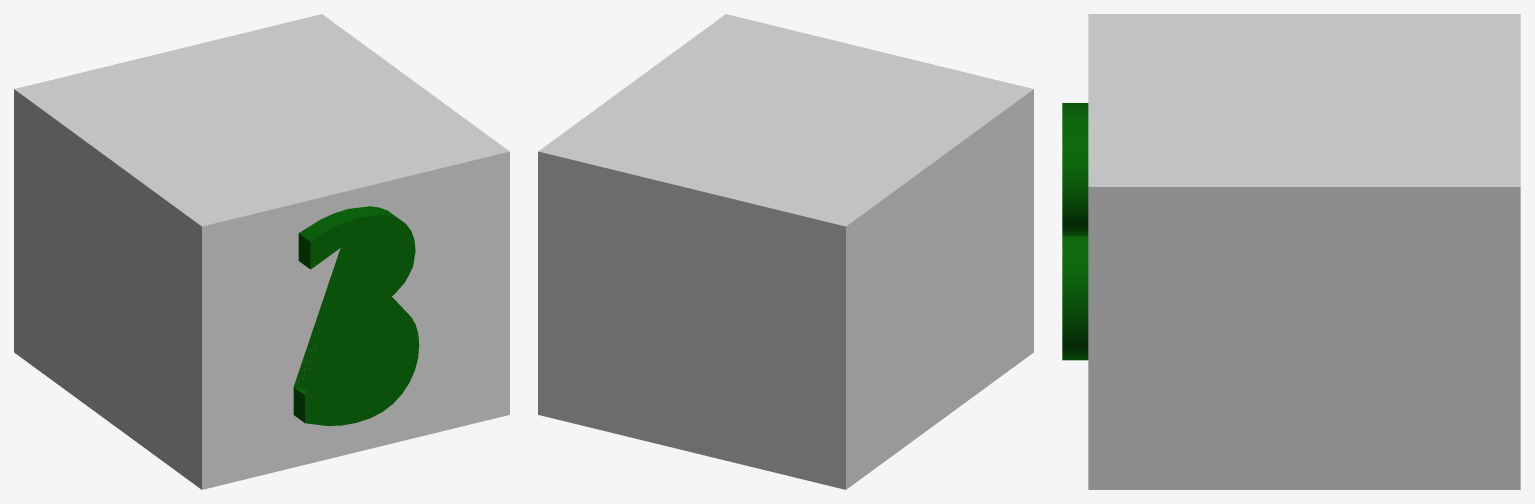
The model's file is SurveyAnswerCube3.fbx.
3 renders of one model, left to right at view 1: azimuth 30°, elevation 25°; view 2: azimuth 150°, elevation 25°; view 3: azimuth 270°, elevation 25°, orthographic. The views are drawn at different scales.
Visible parts, largest first — view 1: Model, G_3_1; view 2: Model; view 3: Model, G_3_1.
Boxes of the visible parts, left/top/right/bottom form: Model: left=14, top=14, right=509, bottom=489; G_3_1: left=293, top=206, right=419, bottom=426; Model: left=538, top=14, right=1033, bottom=489; Model: left=1088, top=14, right=1520, bottom=489; G_3_1: left=1062, top=103, right=1088, bottom=360.
Size of the model in its own units: 1.72 by 1.41 by 1.93.
